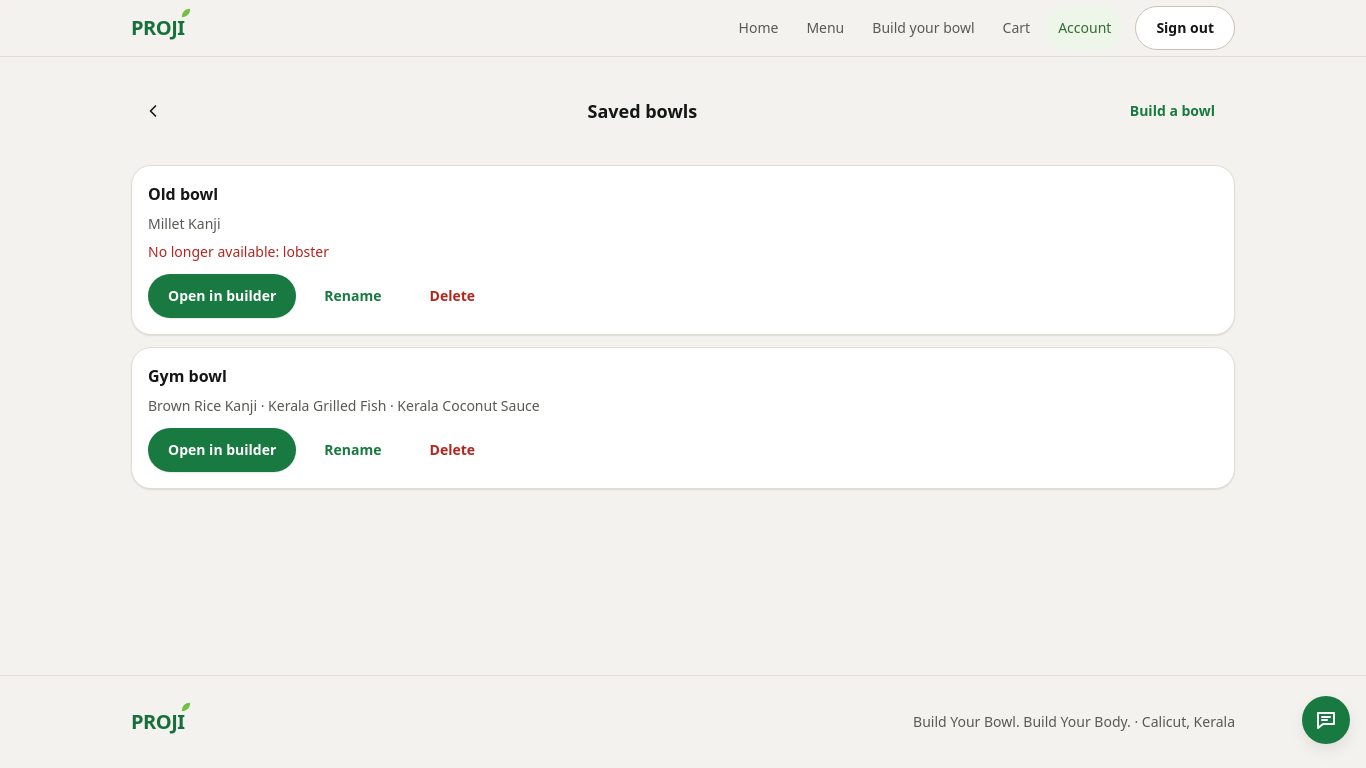
Scenario: U-07 saved bowls › list, stale warning, rename (conflict), delete
Expected: the text "Brown Rice Kanji · Kerala Grilled Fish · Kerala Coconut Sauce" is shown, x1=148 y1=396 x2=540 y2=415
Expected: the text "No longer available: lobster" is shown, x1=148 y1=242 x2=329 y2=261
Click the button with aria-label "Rename Gym bowl": (353, 450) x1=304 y1=428 x2=402 y2=472
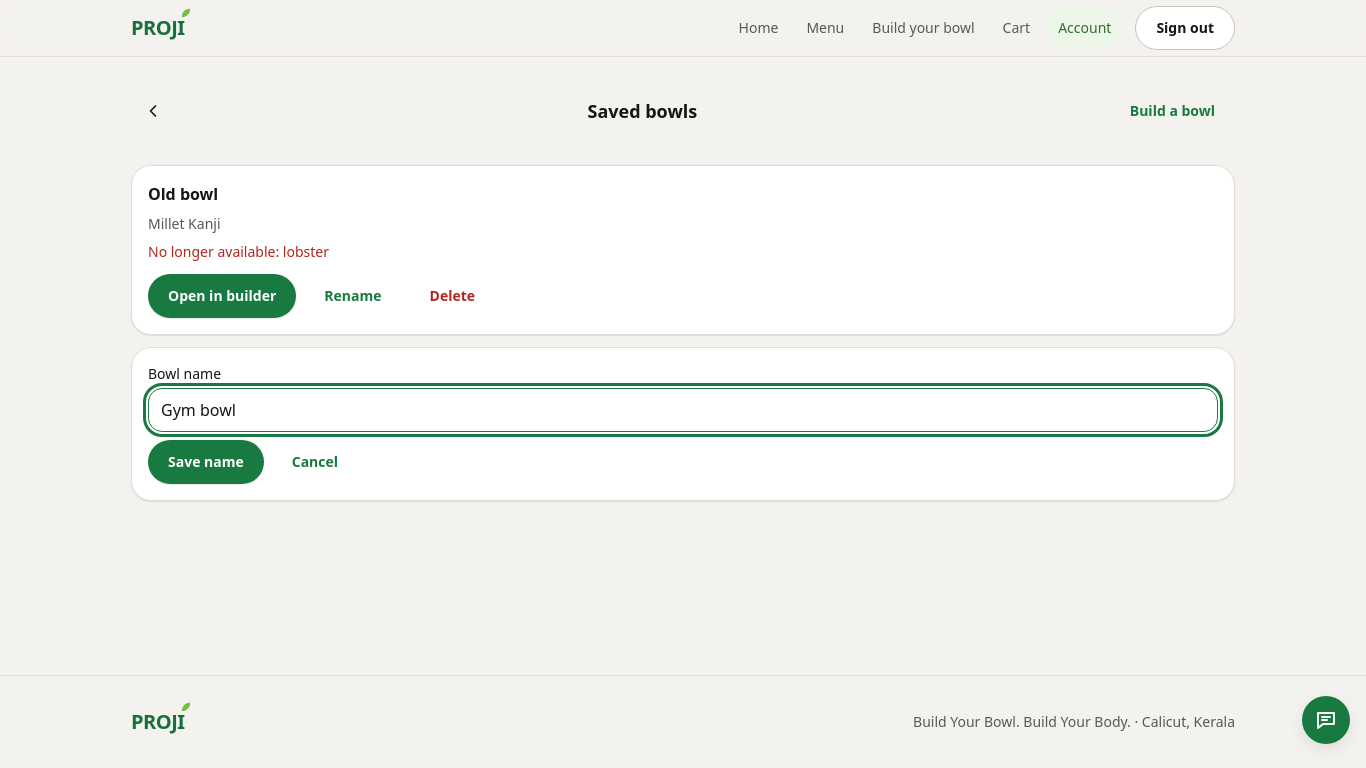
Replace the text in the field labelled "Bowl name" with "old BOWL": (683, 410) x1=148 y1=388 x2=1218 y2=432
Click the button "Save name": (206, 462) x1=148 y1=440 x2=264 y2=484
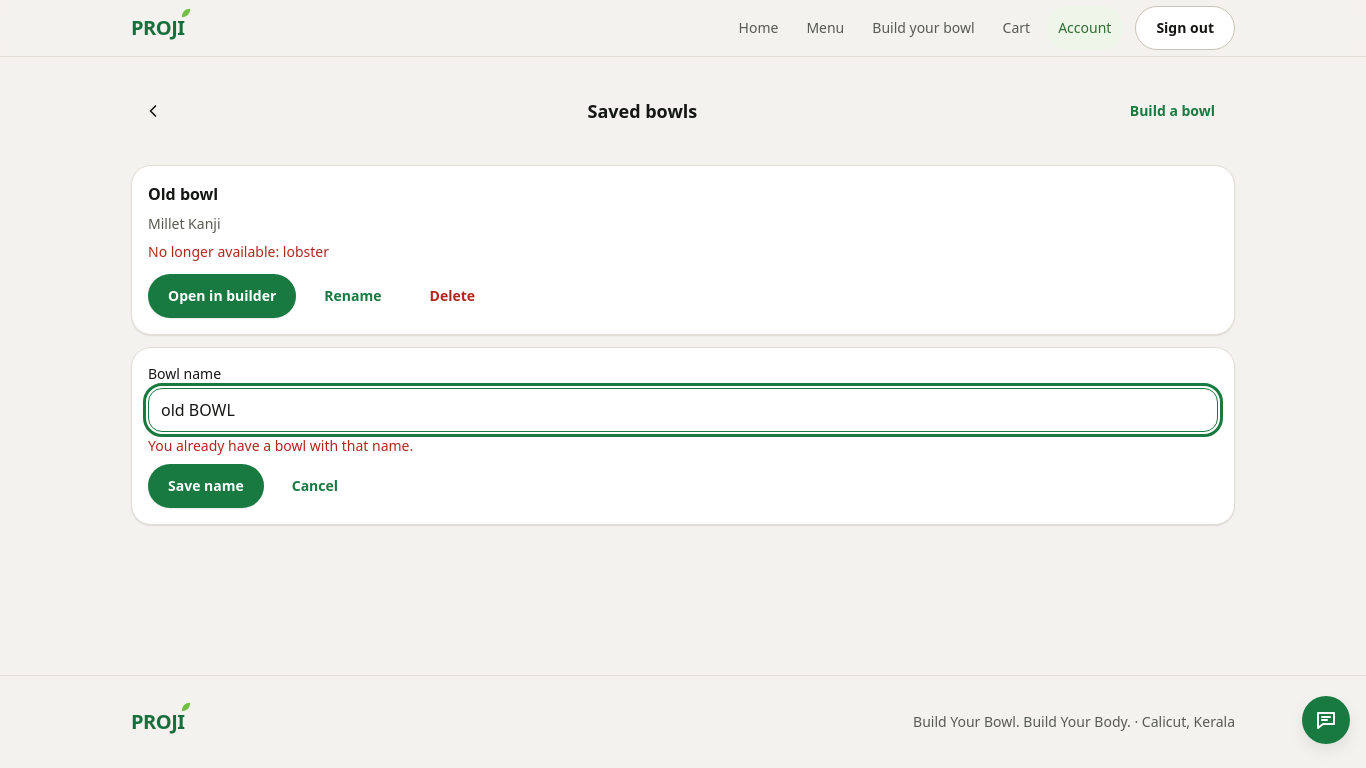
Expected: the text "You already have a bowl with that name." is shown, x1=148 y1=436 x2=413 y2=455
Replace the text in the field labelled "Bowl name" with "Post-gym": (683, 410) x1=148 y1=388 x2=1218 y2=432
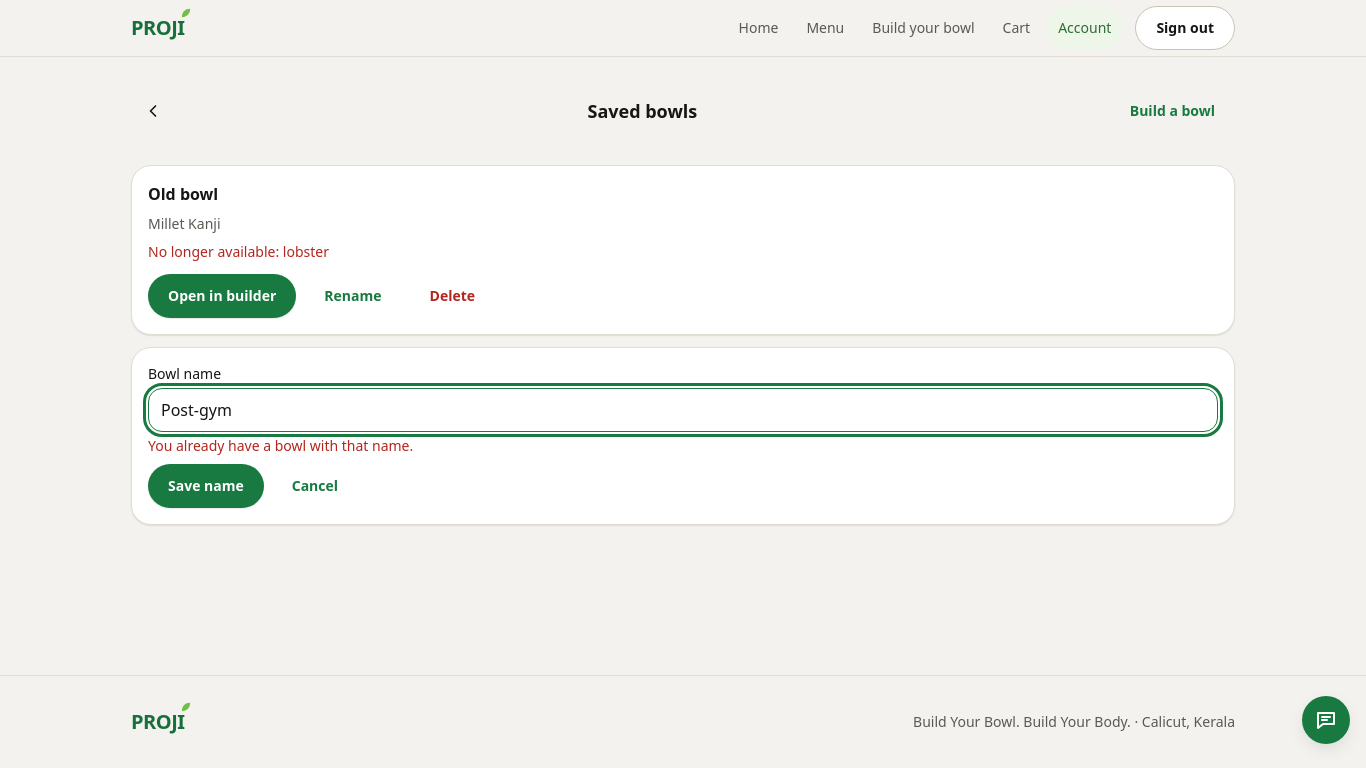
Click the button "Save name": (206, 486) x1=148 y1=464 x2=264 y2=508
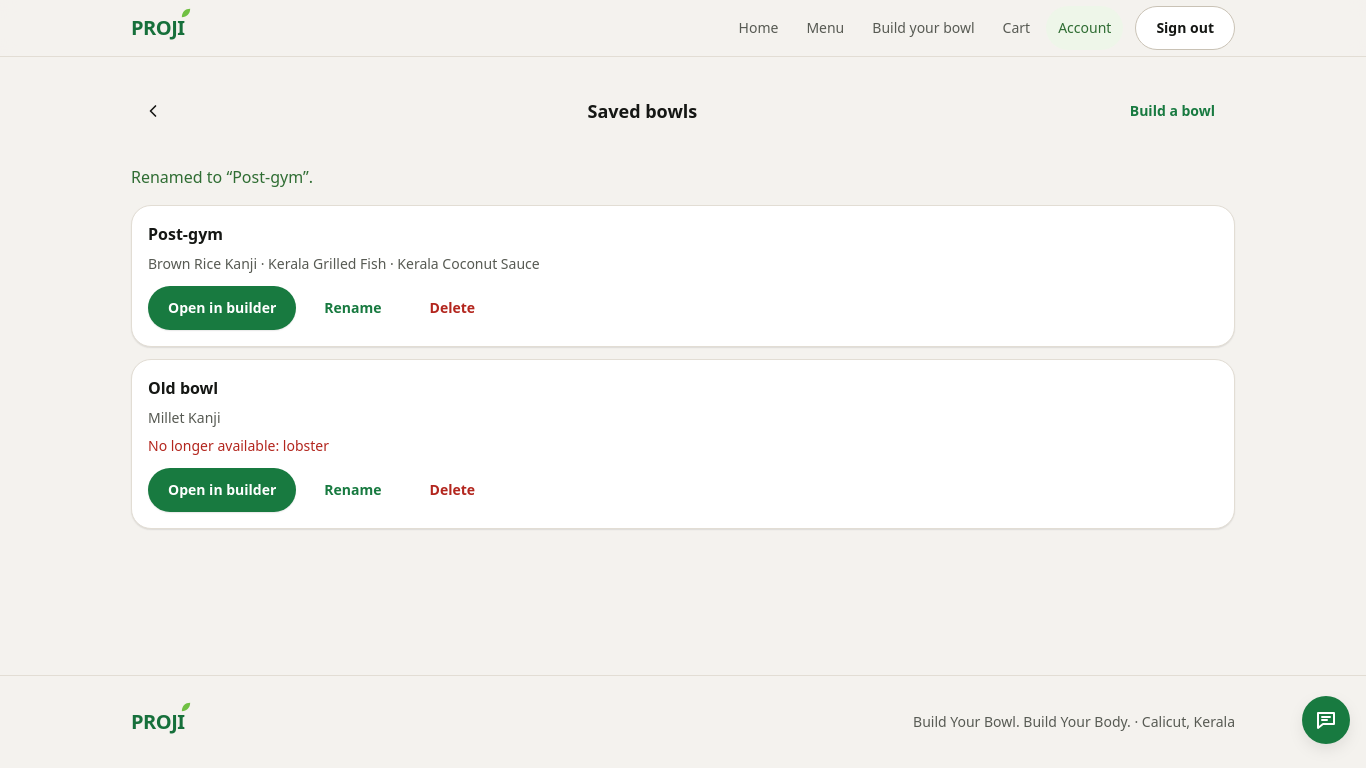
Expected: the text "Renamed to “Post-gym”." is shown, x1=131 y1=166 x2=313 y2=188
Click the button with aria-label "Delete Old bowl": (452, 490) x1=410 y1=468 x2=495 y2=512
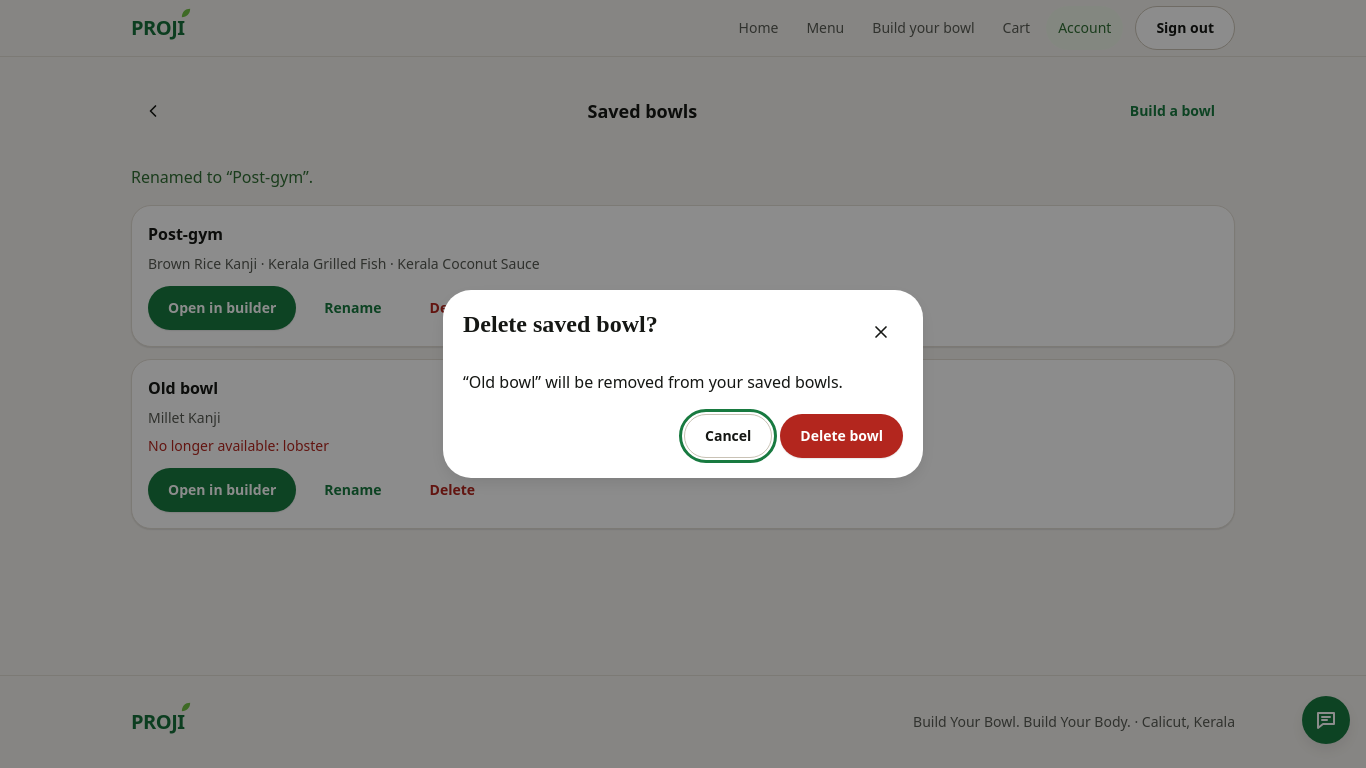
Click the button "Delete bowl": (842, 436) x1=780 y1=414 x2=903 y2=458
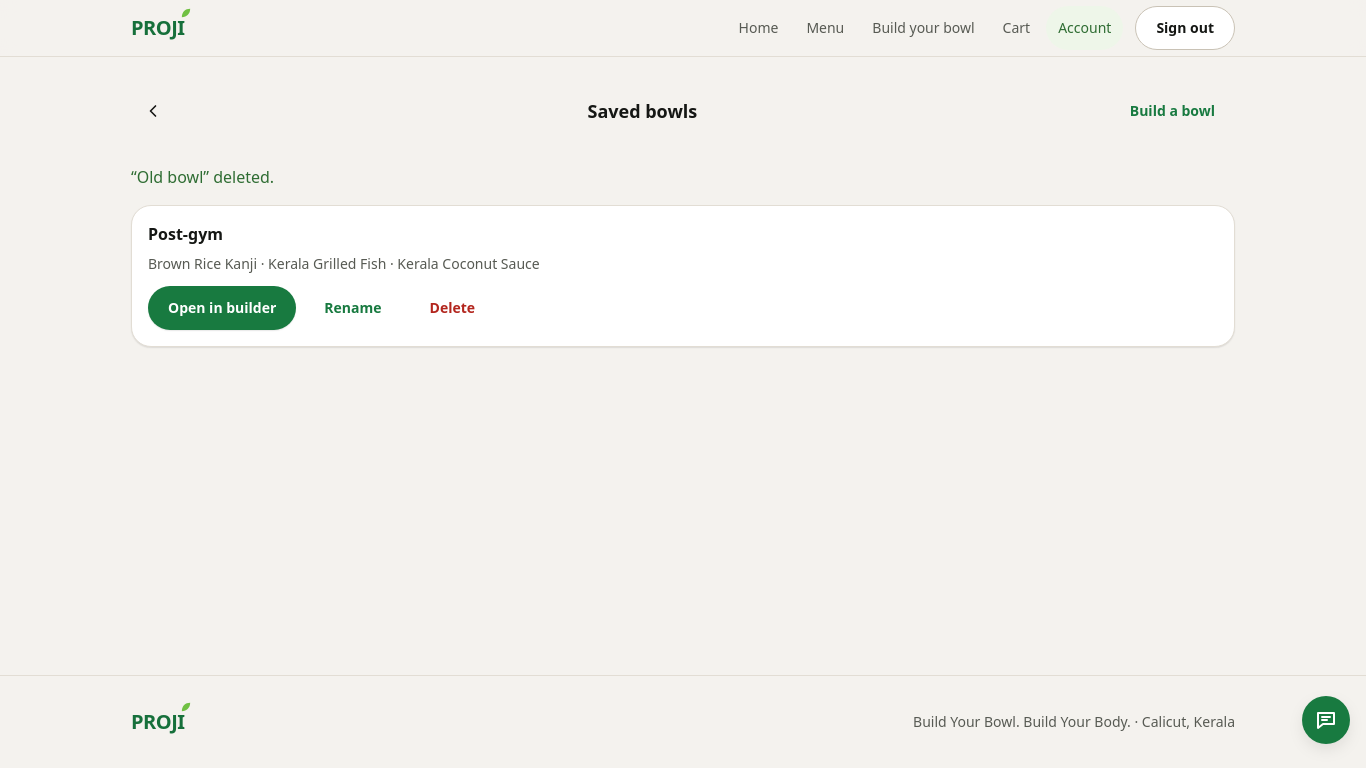
Expected: the text "“Old bowl” deleted." is shown, x1=131 y1=166 x2=274 y2=188
